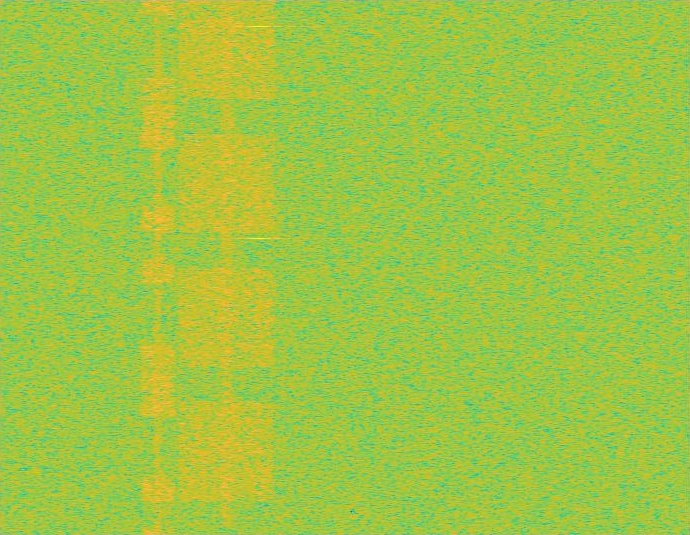5G: (175, 0, 279, 534)
DSSS: (220, 0, 234, 534), (154, 0, 162, 534)
LTE: (141, 0, 175, 534)
Radar: (252, 0, 266, 534)
